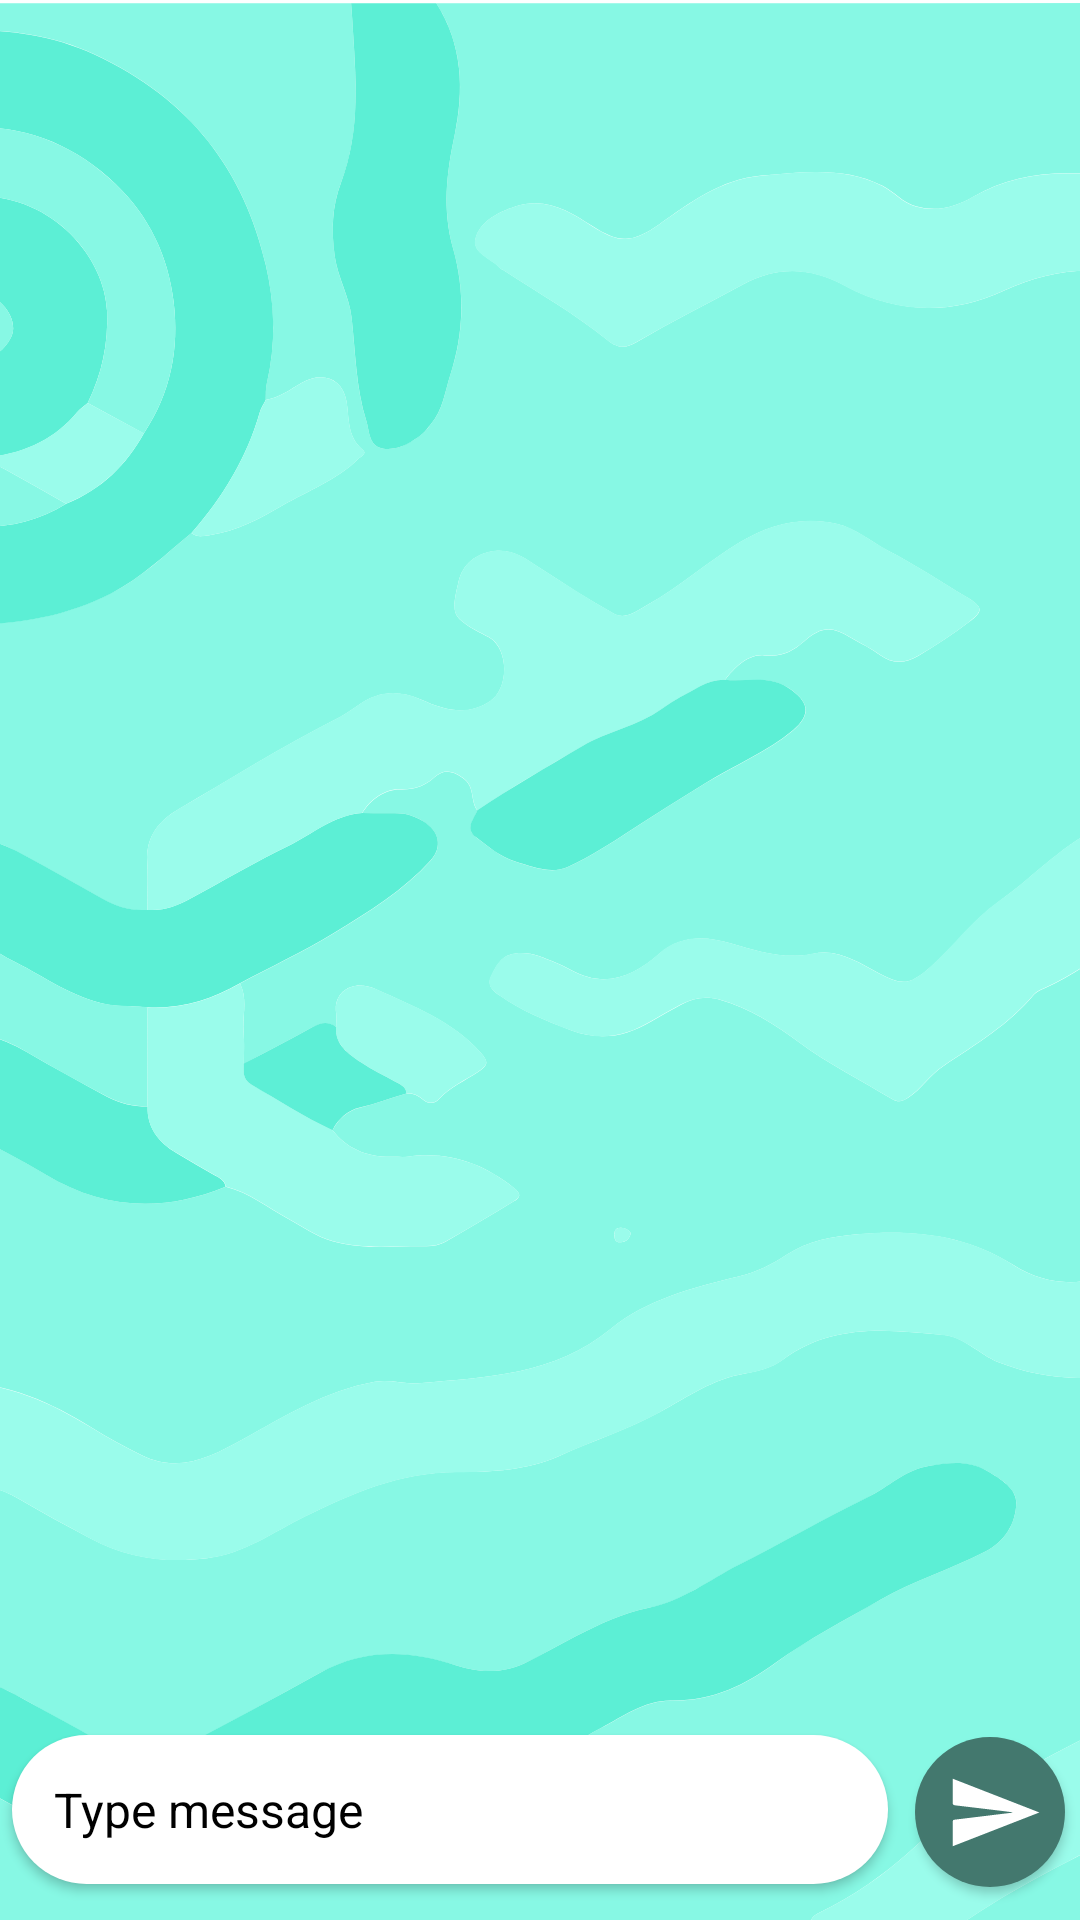

Icon bounding boxes for this 1080 x 1920 phone screenshot, format box(x1, y1, x2, y2):
chat app send: box(900, 1737, 1080, 1887)
